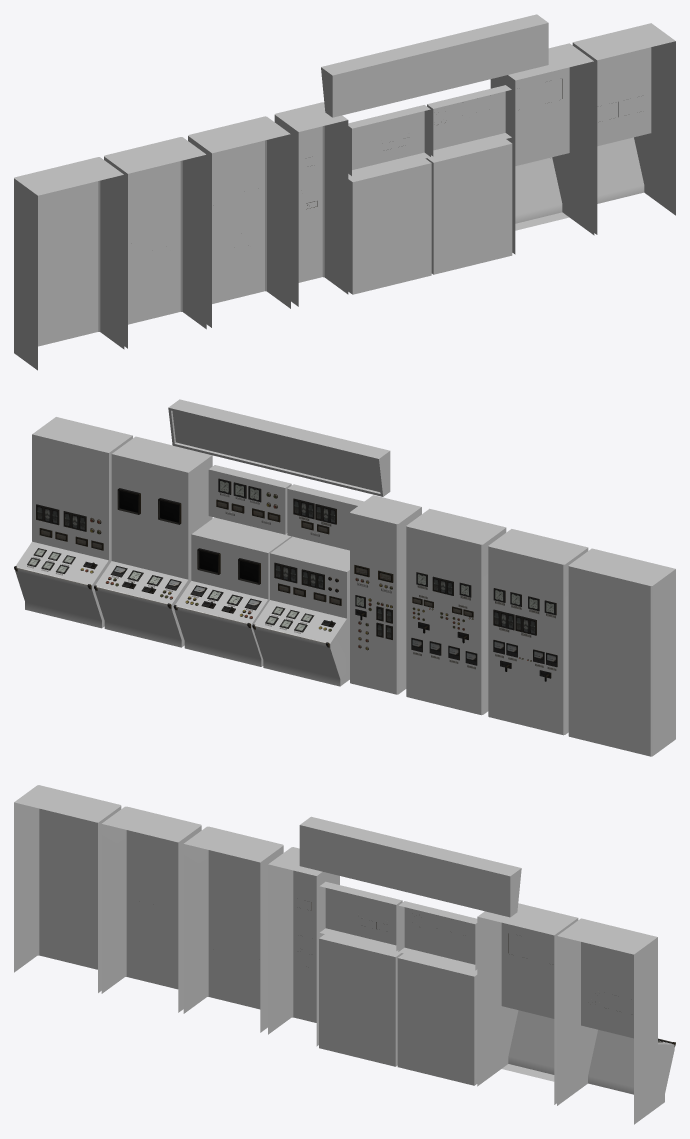
The model's file is abandoned-electrical-panels.obj.
3 renders of one model, top to bottom at view 1: azimuth 30°, elevation 25°; view 2: azimuth 150°, elevation 25°; view 3: azimuth 330°, elevation 25°, orthographic. The views are drawn at different scales.
Visible parts, largest first — view 1: Object013_Material_#631_0, Object003_Material_#631_0, Object012_Material_#631_0, Object005_Material_#631_0, Object006_Material_#631_0, Object004_Material_#631_0, Object007_Material_#631_0, Object011_Material_#631_0, Object010_Material_#631_0, Object008_Material_#631_0, Object009_Material_#631_0; view 2: Object013_Material_#631_0, Object006_Material_#631_0, Object003_Material_#631_0, Object005_Material_#631_0, Object012_Material_#631_0, Object004_Material_#631_0, Object007_Material_#631_0, Object011_Material_#631_0, Object010_Material_#631_0, Object009_Material_#631_0, Object008_Material_#631_0, Object012_Material_#632_0 (+10 smaller); view 3: Object005_Material_#631_0, Object013_Material_#631_0, Object003_Material_#631_0, Object012_Material_#631_0, Object006_Material_#631_0, Object004_Material_#631_0, Object010_Material_#631_0, Object011_Material_#631_0, Object007_Material_#631_0, Object008_Material_#631_0, Object009_Material_#631_0.
Part boxes in pixels (x1=…): Object013_Material_#631_0: x1=14, y1=157, x2=124, y2=370; Object003_Material_#631_0: x1=188, y1=116, x2=290, y2=327; Object012_Material_#631_0: x1=104, y1=137, x2=206, y2=348; Object005_Material_#631_0: x1=572, y1=23, x2=675, y2=234; Object006_Material_#631_0: x1=490, y1=43, x2=594, y2=254; Object004_Material_#631_0: x1=321, y1=14, x2=548, y2=117; Object007_Material_#631_0: x1=274, y1=102, x2=348, y2=306; Object011_Material_#631_0: x1=348, y1=158, x2=431, y2=294; Object010_Material_#631_0: x1=425, y1=139, x2=512, y2=274; Object008_Material_#631_0: x1=348, y1=105, x2=430, y2=176; Object009_Material_#631_0: x1=427, y1=85, x2=511, y2=156; Object013_Material_#631_0: x1=568, y1=548, x2=675, y2=756; Object006_Material_#631_0: x1=95, y1=436, x2=212, y2=647; Object003_Material_#631_0: x1=406, y1=508, x2=506, y2=715; Object005_Material_#631_0: x1=15, y1=417, x2=132, y2=628; Object012_Material_#631_0: x1=488, y1=529, x2=588, y2=735; Object004_Material_#631_0: x1=168, y1=399, x2=390, y2=496; Object007_Material_#631_0: x1=350, y1=495, x2=421, y2=694; Object011_Material_#631_0: x1=253, y1=536, x2=349, y2=686; Object010_Material_#631_0: x1=174, y1=517, x2=292, y2=666; Object009_Material_#631_0: x1=208, y1=465, x2=291, y2=534; Object008_Material_#631_0: x1=287, y1=484, x2=364, y2=550; Object012_Material_#632_0: x1=493, y1=588, x2=557, y2=681; Object005_Material_#631_0: x1=557, y1=918, x2=674, y2=1124; Object013_Material_#631_0: x1=14, y1=785, x2=121, y2=992; Object003_Material_#631_0: x1=183, y1=826, x2=283, y2=1032; Object012_Material_#631_0: x1=101, y1=806, x2=201, y2=1012; Object006_Material_#631_0: x1=477, y1=903, x2=578, y2=1104; Object004_Material_#631_0: x1=299, y1=816, x2=521, y2=917; Object010_Material_#631_0: x1=397, y1=953, x2=477, y2=1085; Object011_Material_#631_0: x1=319, y1=934, x2=403, y2=1066; Object007_Material_#631_0: x1=268, y1=847, x2=339, y2=1046; Object008_Material_#631_0: x1=319, y1=881, x2=402, y2=951; Object009_Material_#631_0: x1=398, y1=901, x2=477, y2=970.
Bounding box in the file's own units: 7.18 × 2.41 × 0.8545.
